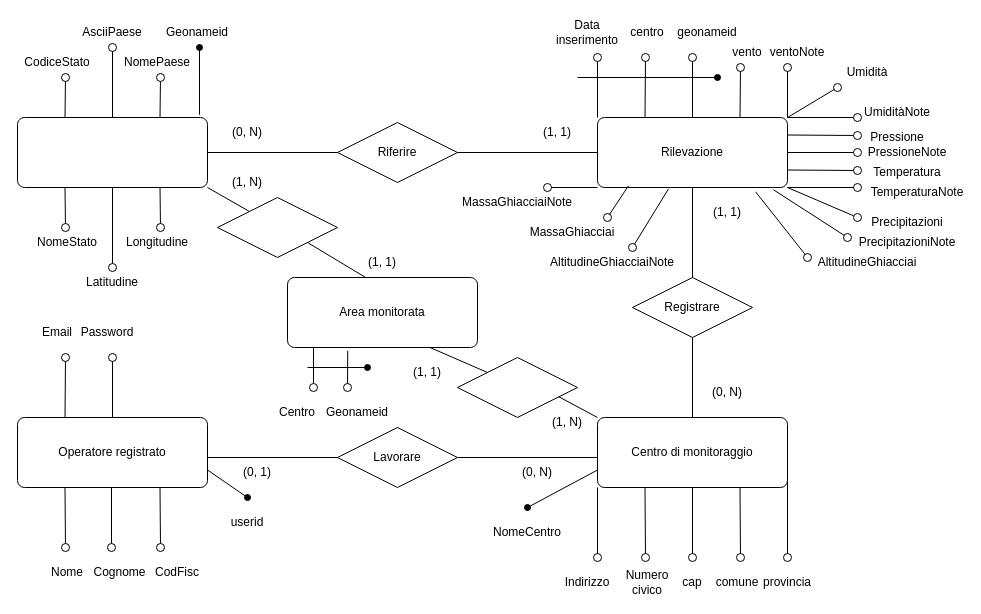
The diagram is 981 pixels wide and 614 high, and some of its shapes have lost their labels. Here are the shapes that lost their labels. From the top down, the box of each, then its label:
(16, 116, 208, 188): Area di interesse
(216, 196, 338, 258): Essere
(456, 356, 578, 418): Monitorare
